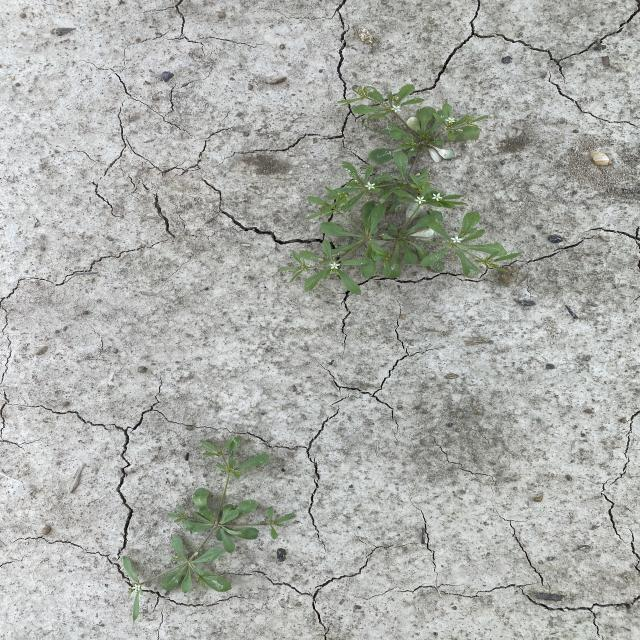Carpetweed: (276, 83, 524, 296), (119, 434, 299, 622)
